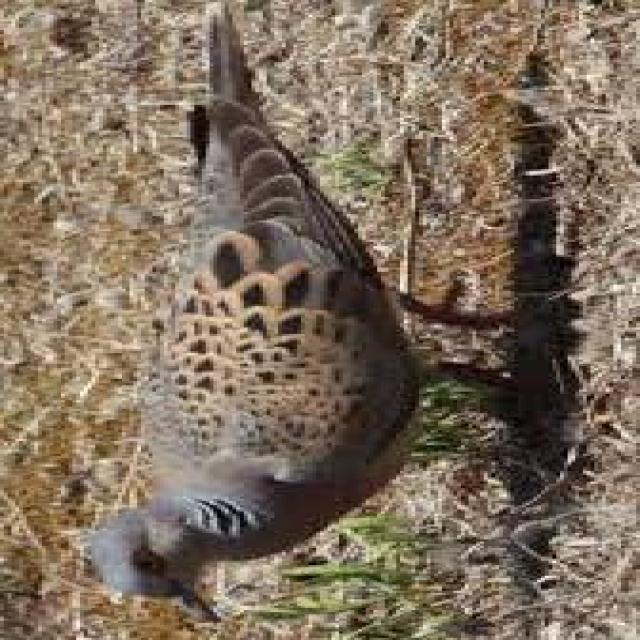pigeon: (69, 21, 466, 640)
